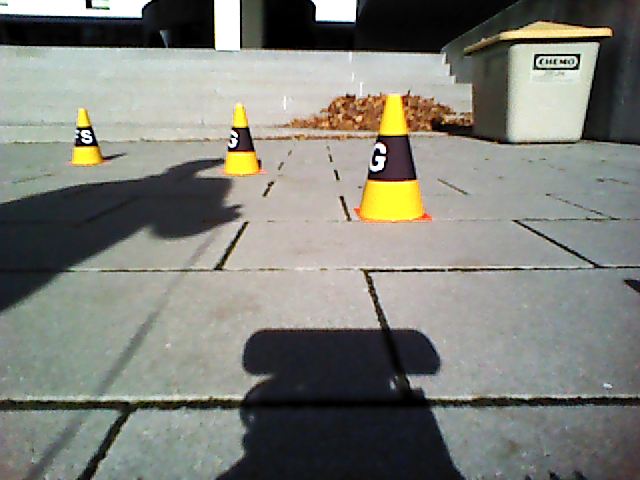yellowcone: (363, 96, 424, 218), (225, 105, 257, 174), (73, 106, 102, 164)
